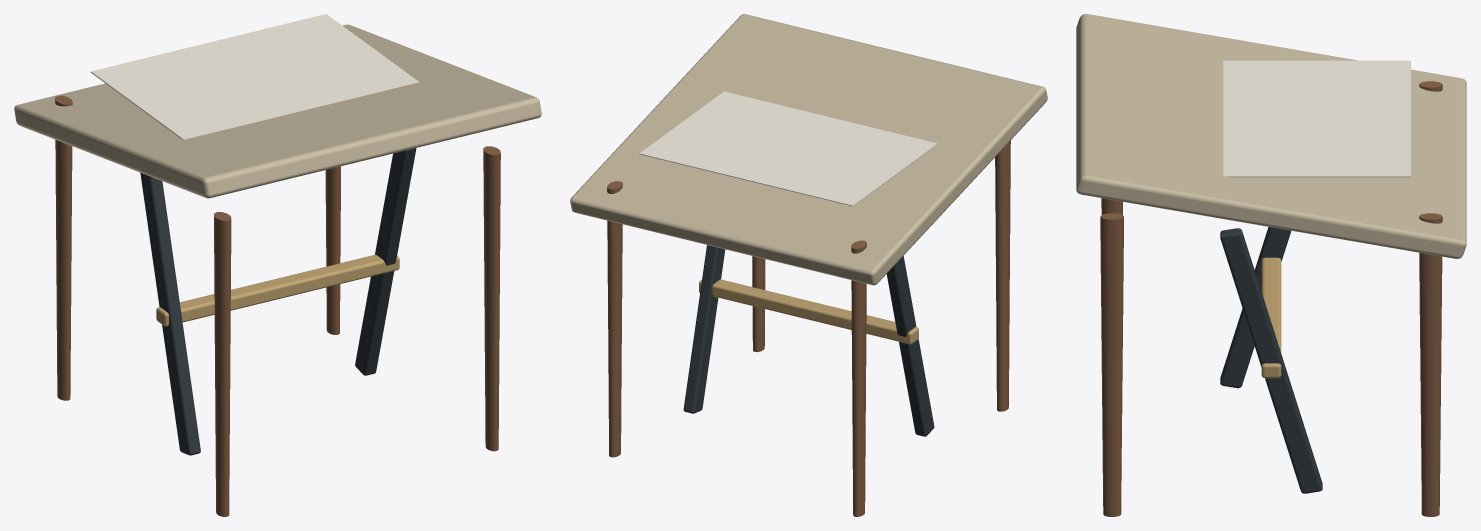
File: desk-20-2.glb
The picture shows the model from 3 angles, left to right: view 1: azimuth 30°, elevation 25°; view 2: azimuth 150°, elevation 25°; view 3: azimuth 270°, elevation 25°; orthographic projection. The views are drawn at different scales.
Visible parts, largest first — view 1: upholstery (×3), drawing-sheet, part; view 2: upholstery (×3), drawing-sheet, part; view 3: upholstery (×3), drawing-sheet, part.
Boxes of the visible parts, left/top/right/bottom form: upholstery (×3): left=14, top=24, right=541, bottom=455; drawing-sheet: left=90, top=14, right=419, bottom=139; part: left=55, top=95, right=500, bottom=516; upholstery (×3): left=570, top=14, right=1047, bottom=436; drawing-sheet: left=639, top=91, right=936, bottom=206; part: left=607, top=140, right=1010, bottom=516; upholstery (×3): left=1076, top=14, right=1466, bottom=493; drawing-sheet: left=1223, top=60, right=1410, bottom=177; part: left=1100, top=81, right=1442, bottom=516.
Size of the model in its own units: 1 by 1 by 1.
